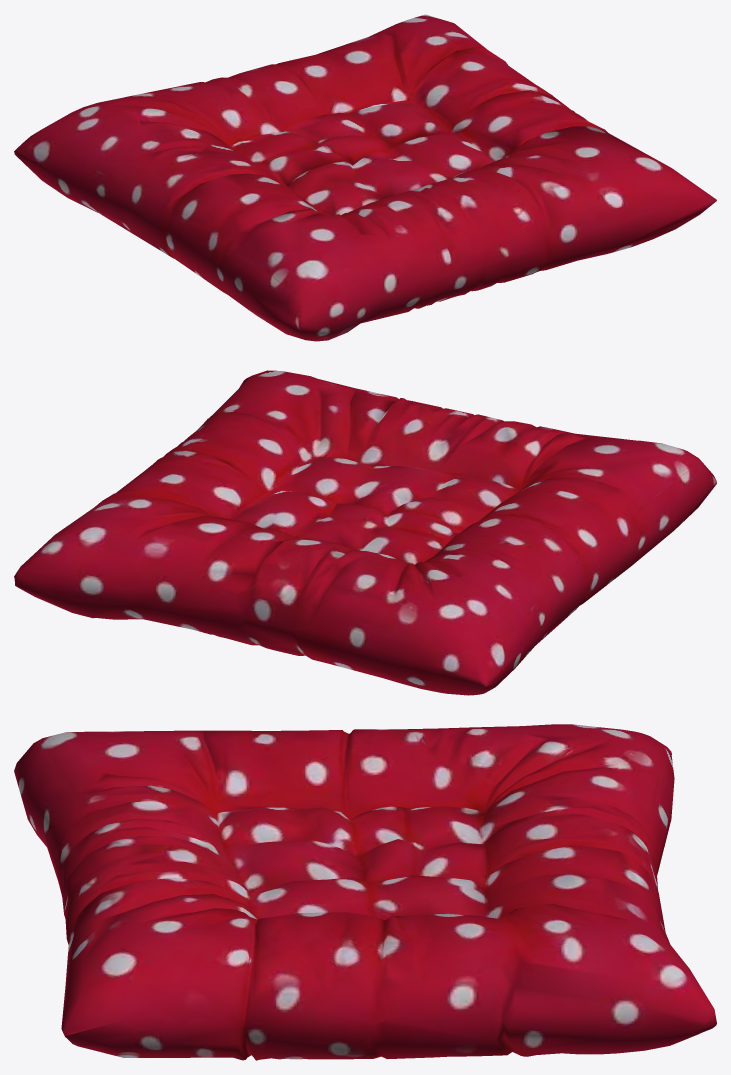
The model's file is chair-pad.glb.
3 renders of one model, top to bottom at view 1: azimuth 30°, elevation 25°; view 2: azimuth 150°, elevation 25°; view 3: azimuth 270°, elevation 25°, orthographic. The views are drawn at different scales.
Parts seen in each view (by area): view 1: node_0; view 2: node_0; view 3: node_0.
Boxes of the visible parts, <box> form: node_0: <box>14,14,716,341</box>; node_0: <box>14,370,716,695</box>; node_0: <box>14,724,716,1060</box>.
Size of the model in its own units: 0.8985 by 0.1725 by 0.9071.
Materials: 1 (1 with a texture image).
